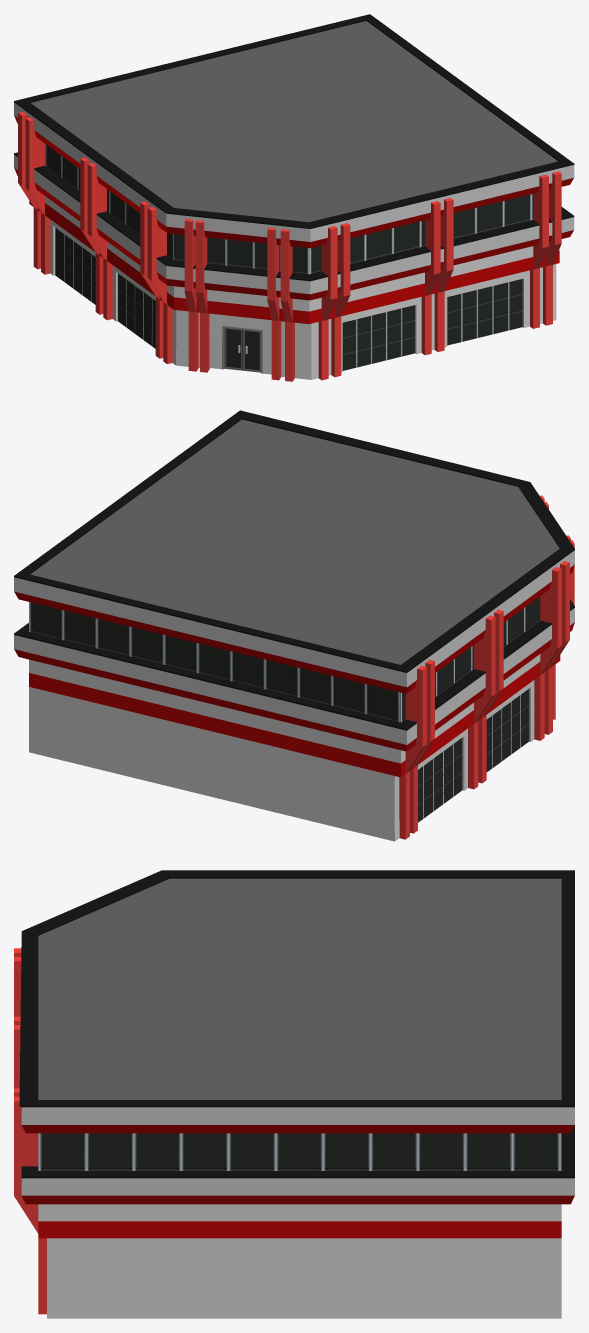
3 renders of one model, top to bottom at view 1: azimuth 30°, elevation 25°; view 2: azimuth 150°, elevation 25°; view 3: azimuth 270°, elevation 25°, orthographic. The views are drawn at different scales.
Parts seen in each view (by area): view 1: EB-03; view 2: EB-03; view 3: EB-03.
Part boxes in pixels (x1=…): EB-03: x1=14, y1=14, x2=574, y2=381; EB-03: x1=14, y1=410, x2=574, y2=841; EB-03: x1=14, y1=870, x2=574, y2=1318.
Size of what is drawn, in the model's own units: 20.9 by 8.92 by 20.74.
